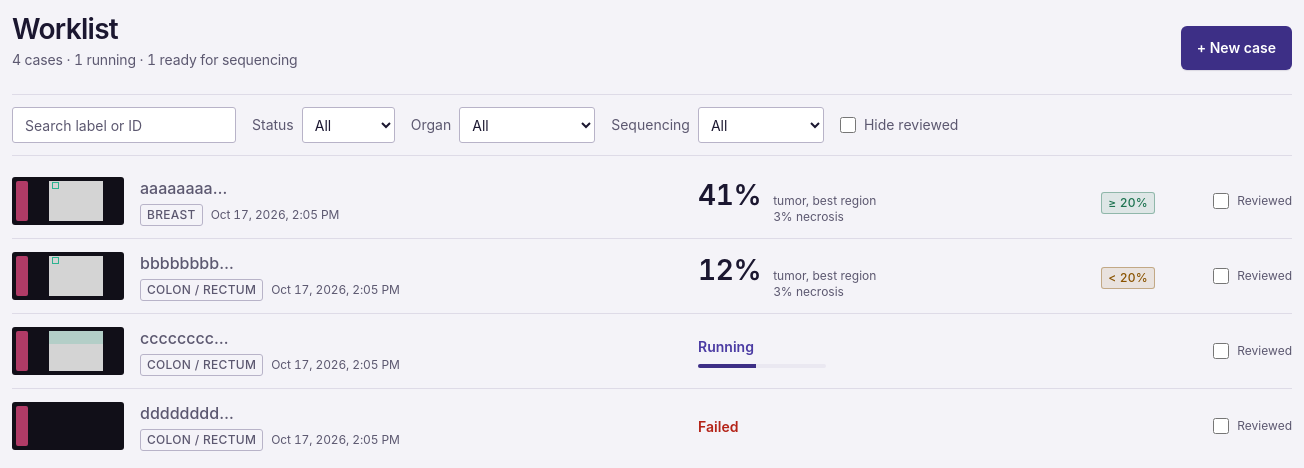
Test: an empty filter result says so
The width and height of the screenshot is (1304, 468).
Type "zzz" into the search field labelled "Search label or ID".
click(124, 125); type("zzz")  # box [12,107,236,143]
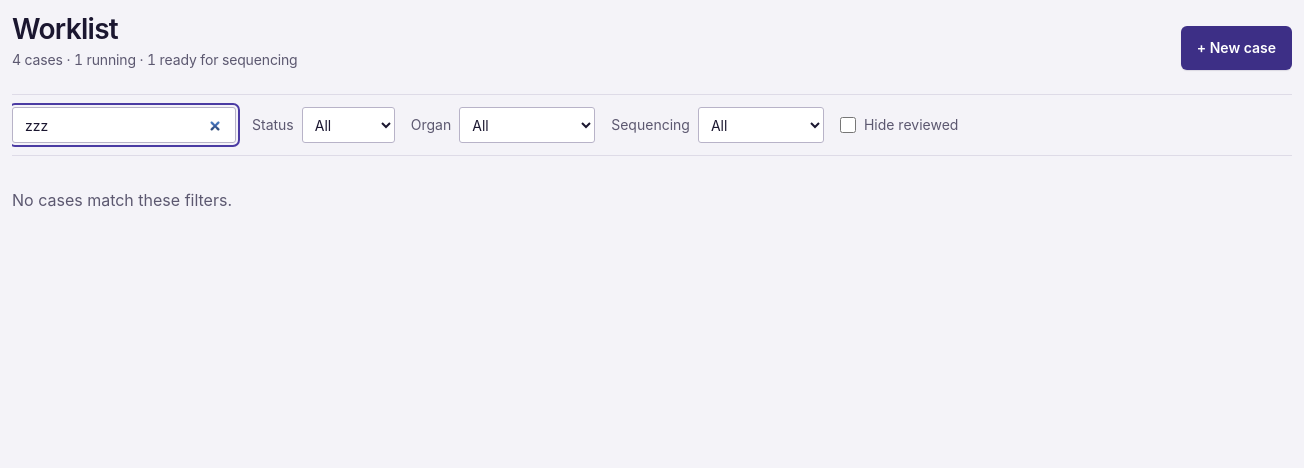
Check: the text "No cases match these filters." is shown, box [12,190,232,210]
